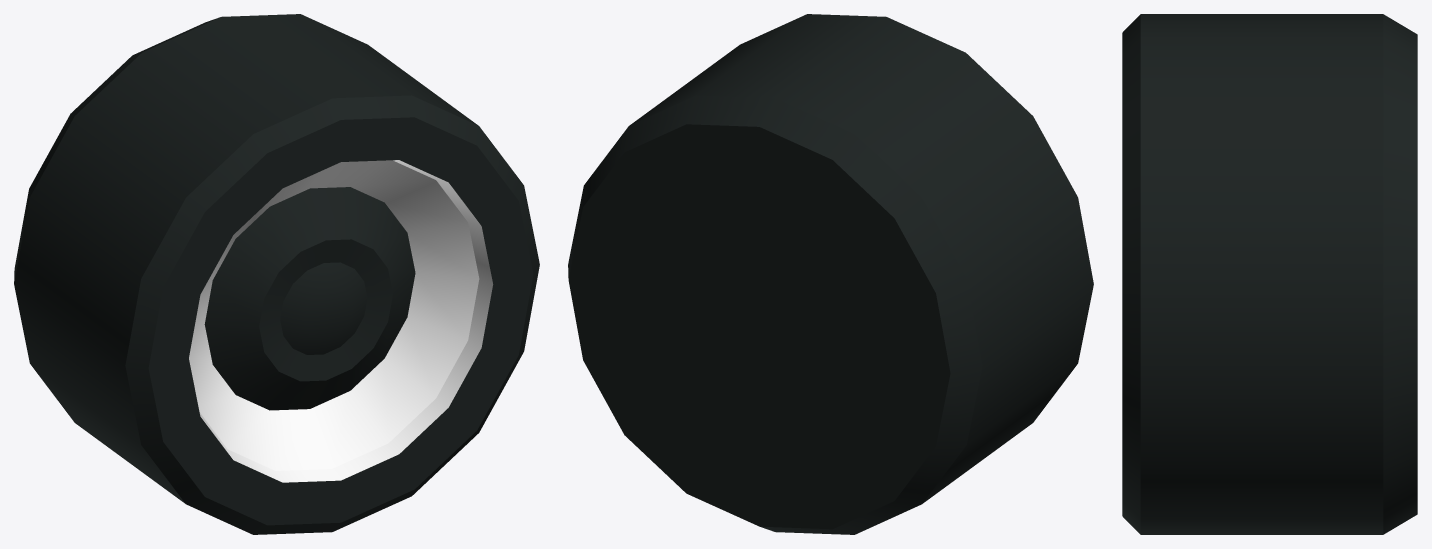
Rendered from carWheel1.glb.
3 renders of one model, left to right at view 1: azimuth 30°, elevation 25°; view 2: azimuth 150°, elevation 25°; view 3: azimuth 270°, elevation 25°, orthographic. The views are drawn at different scales.
Visible parts, largest first — view 1: whell.003; view 2: whell.003; view 3: whell.003.
Boxes of the visible parts, <box> form: whell.003: <box>14,14,539,534</box>; whell.003: <box>568,14,1093,534</box>; whell.003: <box>1122,14,1417,534</box>.
Bounding box in the file's own units: 0.6109 × 0.6109 × 0.3458.
Materials: 1 (1 with a texture image).
